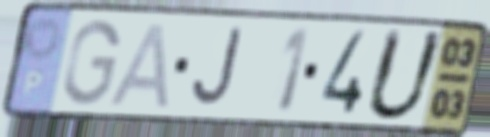1: (274, 23, 313, 117)
4: (316, 27, 368, 120)
A: (106, 20, 174, 111)
G: (59, 17, 123, 109)
J: (188, 25, 245, 112)
U: (361, 25, 449, 124)
